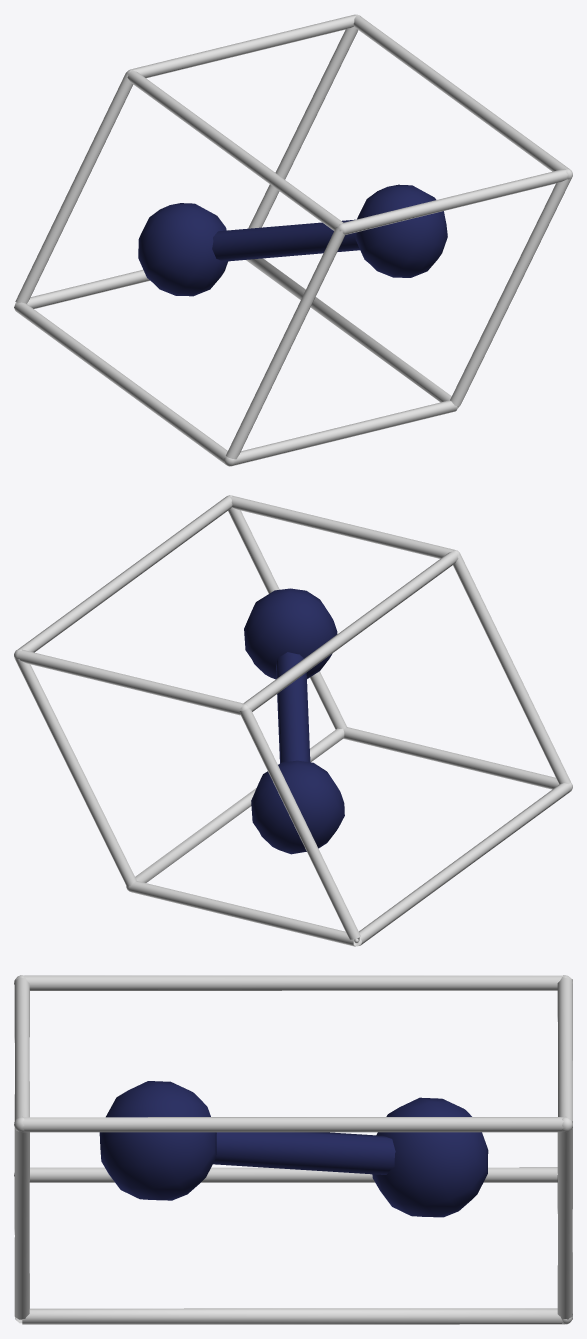
The model's file is ZINC.fbx.
3 renders of one model, top to bottom at view 1: azimuth 30°, elevation 25°; view 2: azimuth 150°, elevation 25°; view 3: azimuth 270°, elevation 25°, orthographic. The views are drawn at different scales.
Parts seen in each view (by area): view 1: limite.035, Zn; view 2: limite.035, Zn; view 3: limite.035, Zn.
Boxes of the visible parts, x1,y1,x2,y2 form: limite.035: (14,14,572,466); Zn: (138,184,447,296); limite.035: (14,495,572,946); Zn: (244,588,344,854); limite.035: (14,975,572,1324); Zn: (99,1081,488,1217).
Bounding box in the file's own units: 13.6 × 8.03 × 14.67.
